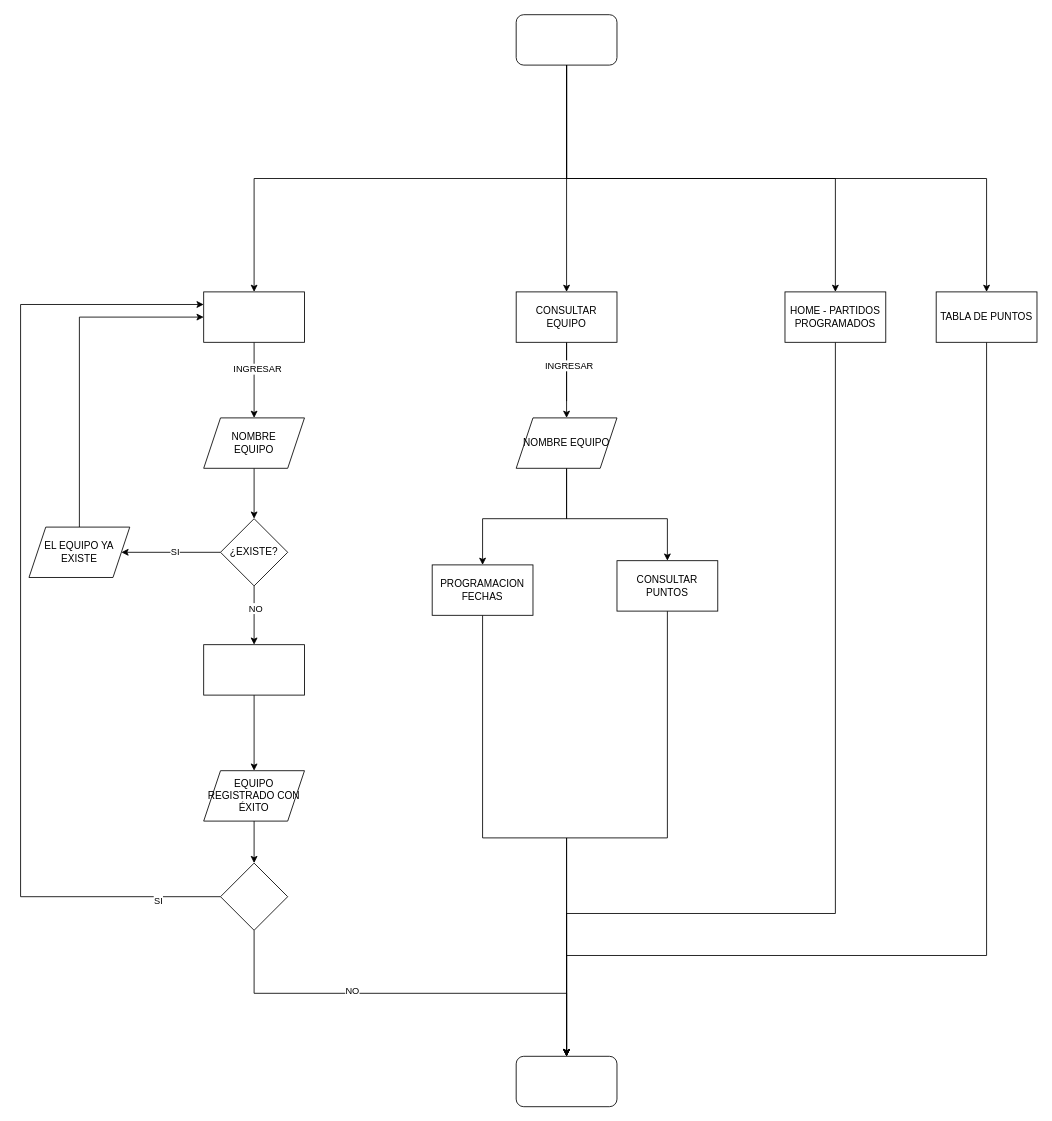
Image size: 1052x1121. Some labels were removed from this diagram. Each missing label, with the centre of its shape:
"FIN" belongs at (566,1081).
"INICIO" belongs at (566,39).
"REGISTRAR EQUIPO" belongs at (253,316).
"SE REGISTRA EQUIPO" belongs at (253,669).
"¿QUIERES AGREGAR UN NUEVO EQUIPO?" belongs at (254,896).
